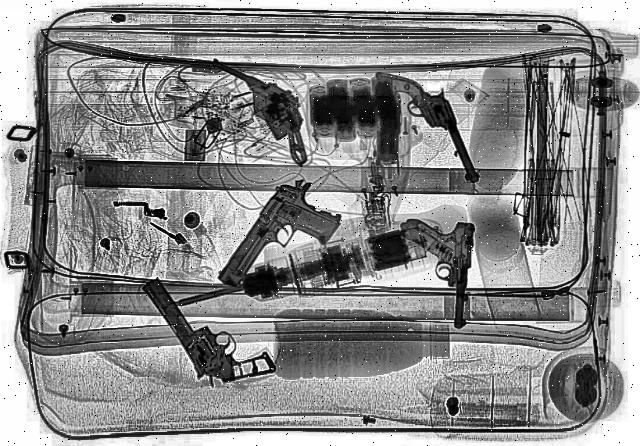Gun: (162, 57, 356, 169), (213, 177, 363, 303), (139, 264, 283, 392), (374, 63, 484, 193), (391, 220, 479, 330)
